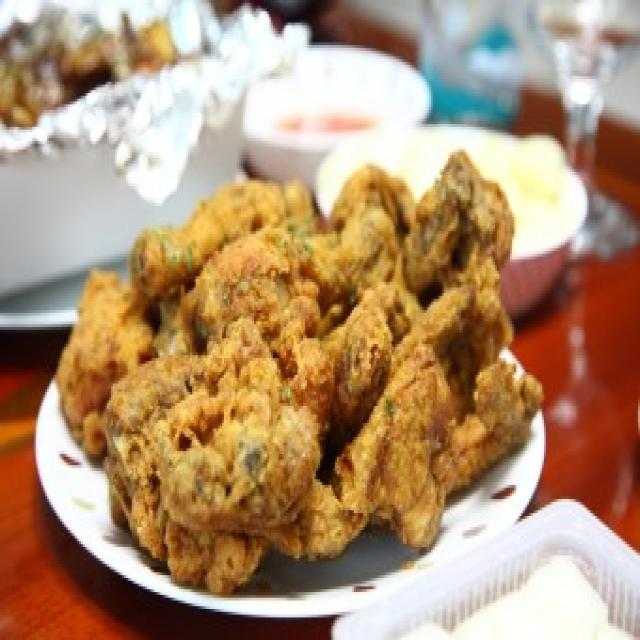Frango: (50, 167, 543, 596)
